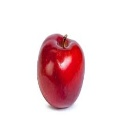apple: (36, 33, 85, 109)
